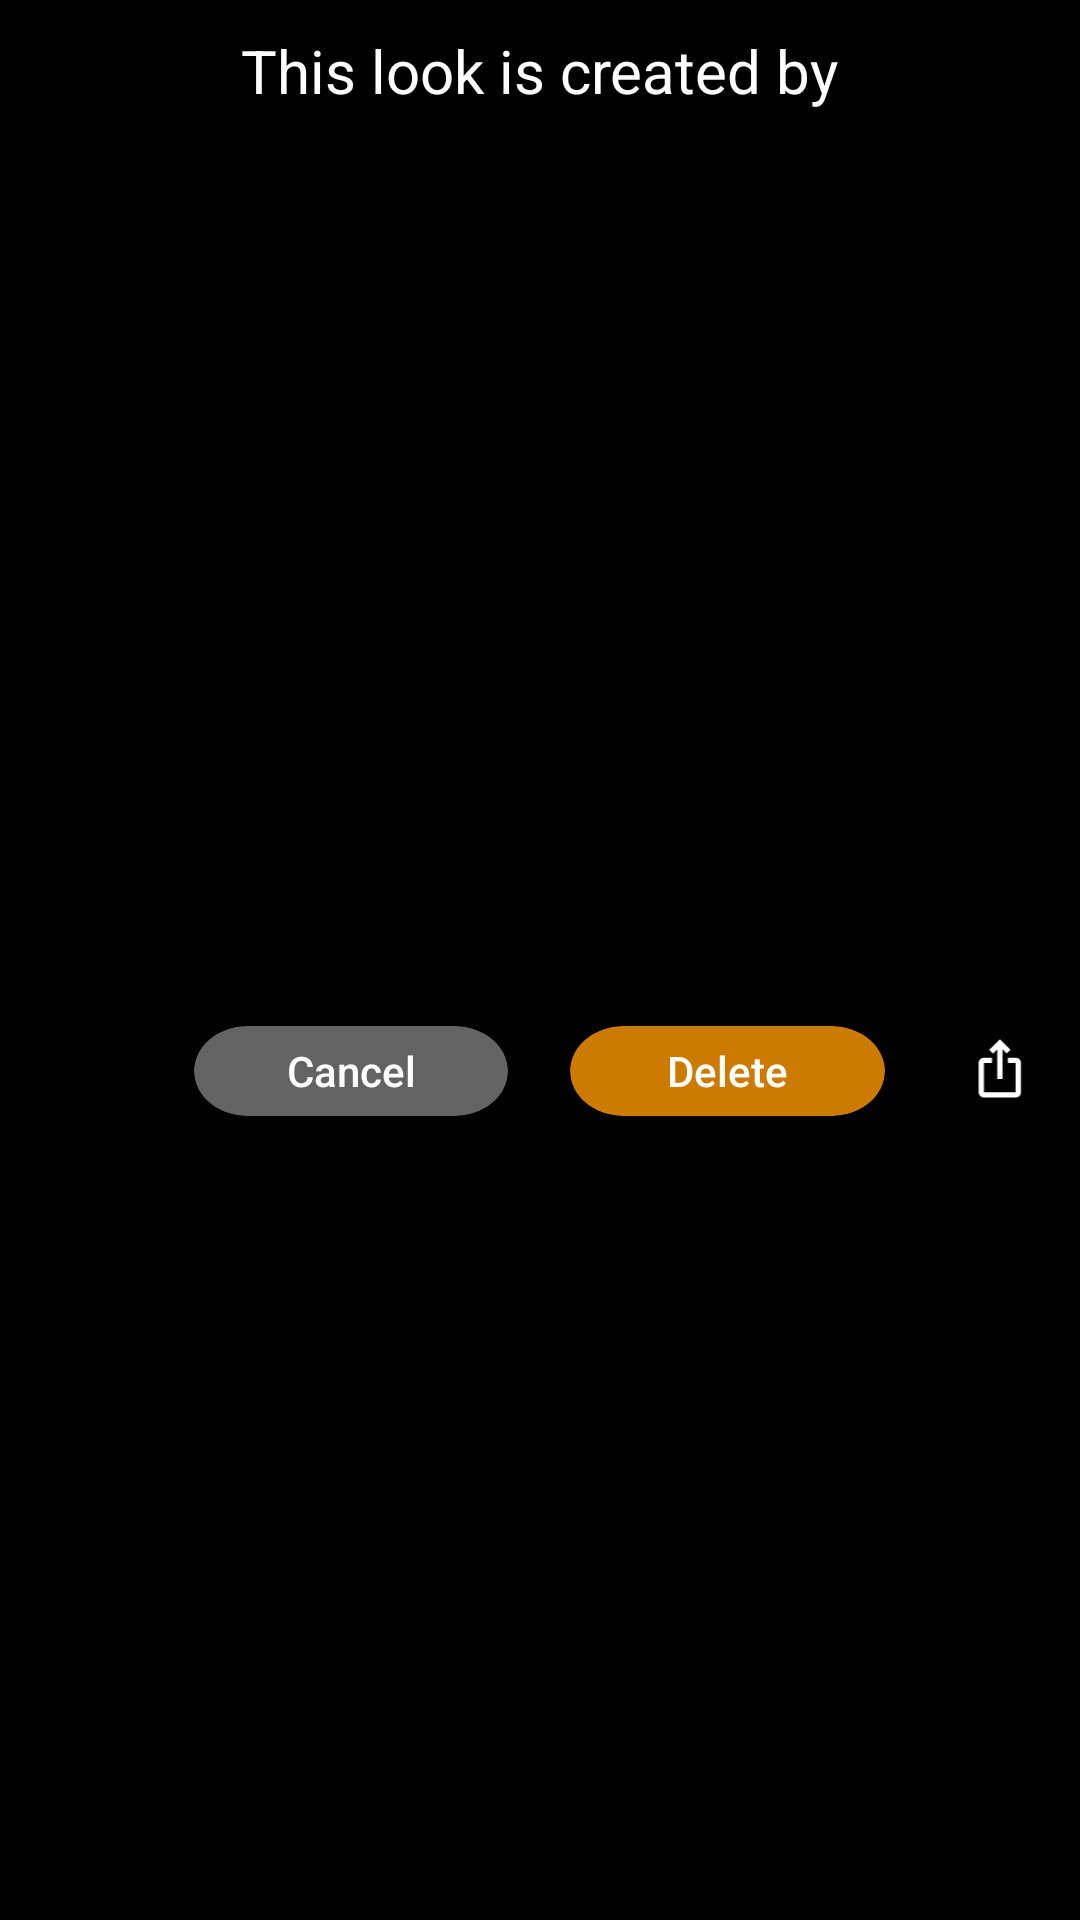

Named icons in this screenshot (1080px x 1920px) and their bounding boxes, (x1, y1, x2, y2):
share: (978, 1039, 1022, 1098)
